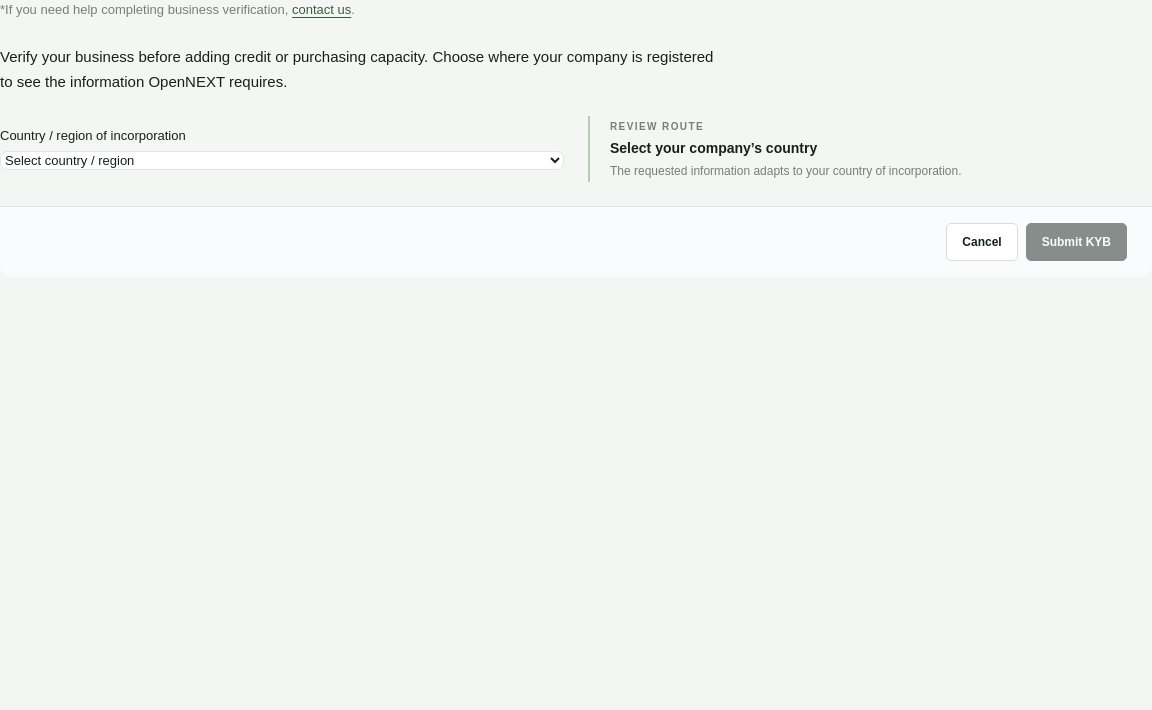
Test: Buyer KYB frontend › keeps Demo isolated without the removed exploration warning
Select "Singapore" in the dropdown labelled "Country / region of incorporation" at (282, 161), box [0, 151, 564, 170]
(page scrolled)
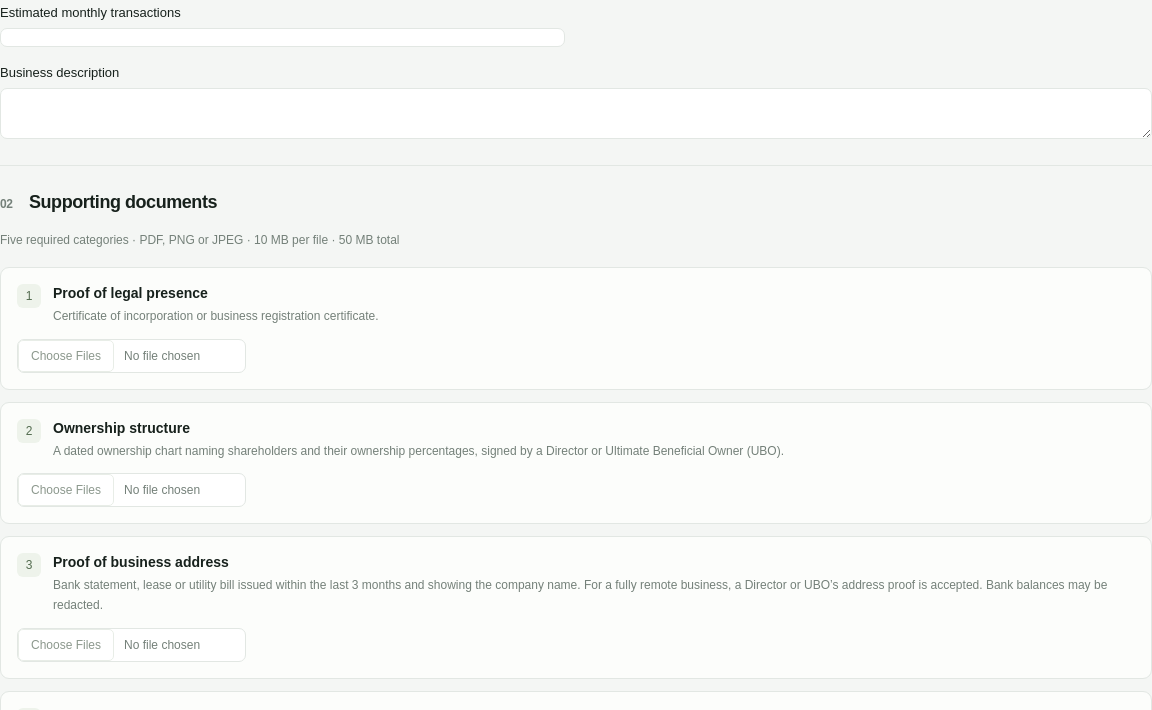
expect the number of file fields is 5: met
expect the file field labelled "Proof of legal presence" is disabled: met, box [17, 339, 246, 373]
expect the file field labelled "Ownership structure" is disabled: met, box [17, 474, 246, 508]
